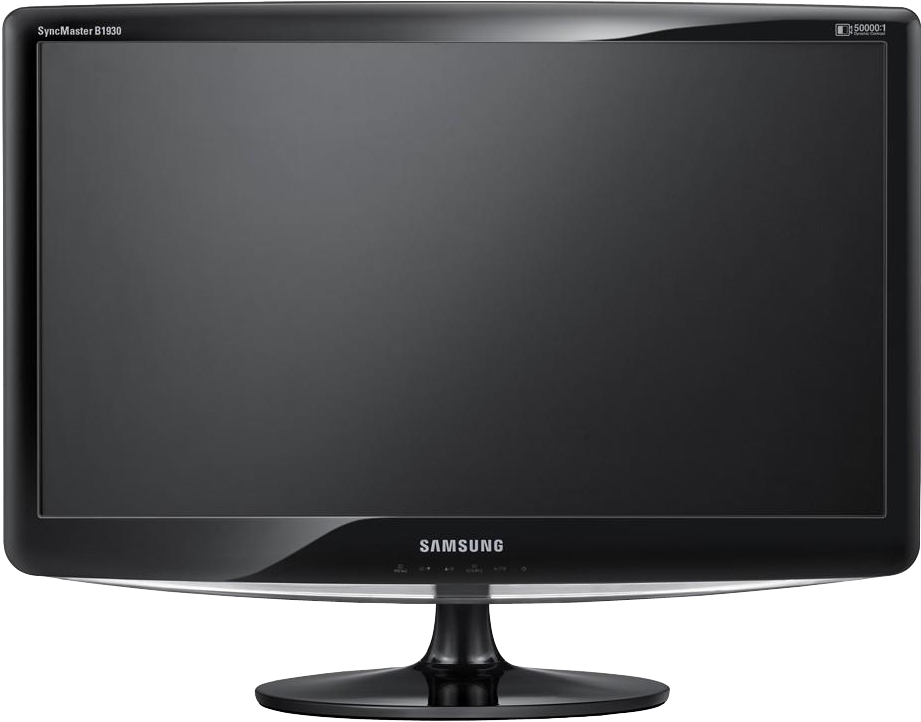samsung-monitor-b2030: (7, 8, 921, 709)
